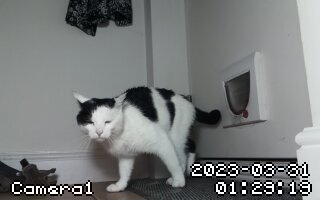bad: (70, 83, 220, 193)
